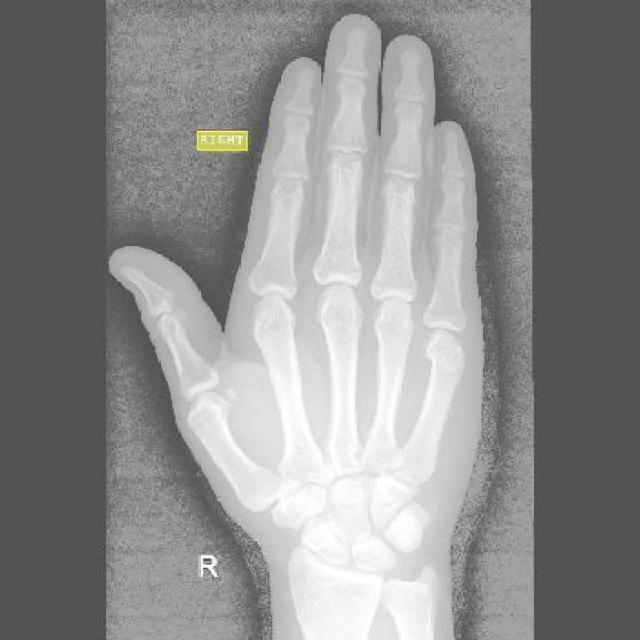Fracture: (422, 329, 467, 377)
